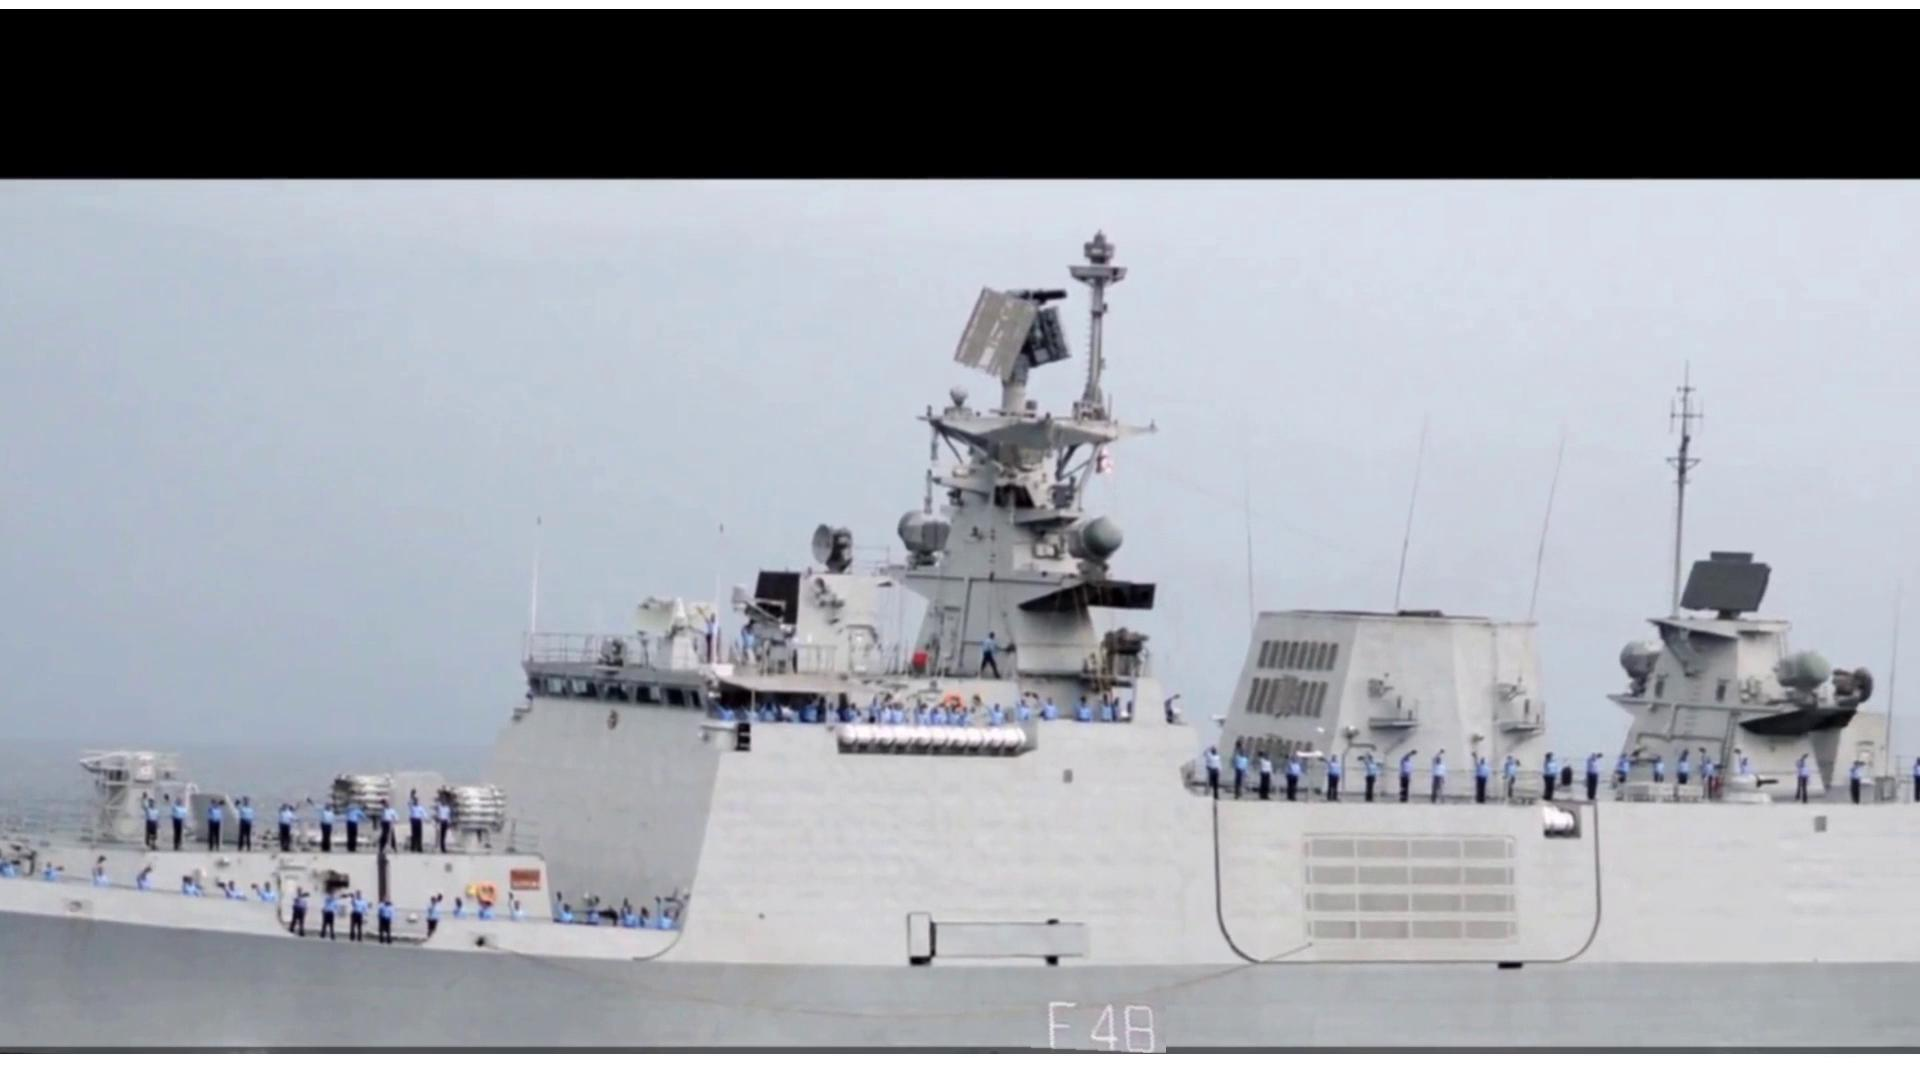OCR: (1009, 992, 1167, 1054)
